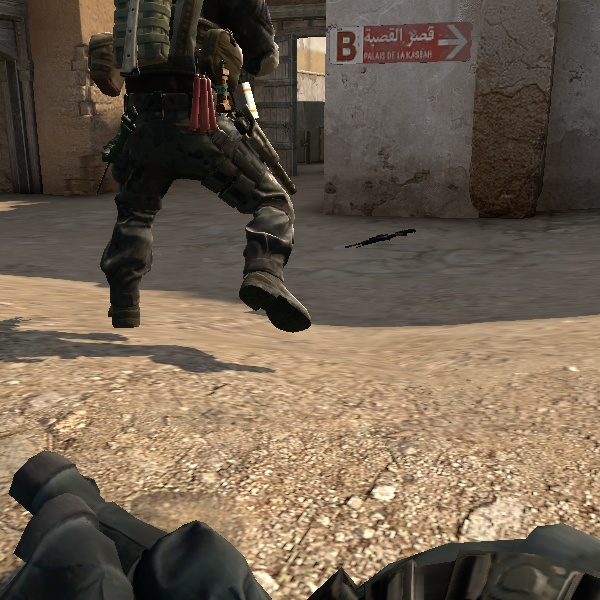ct_body: (51, 8, 291, 346)
